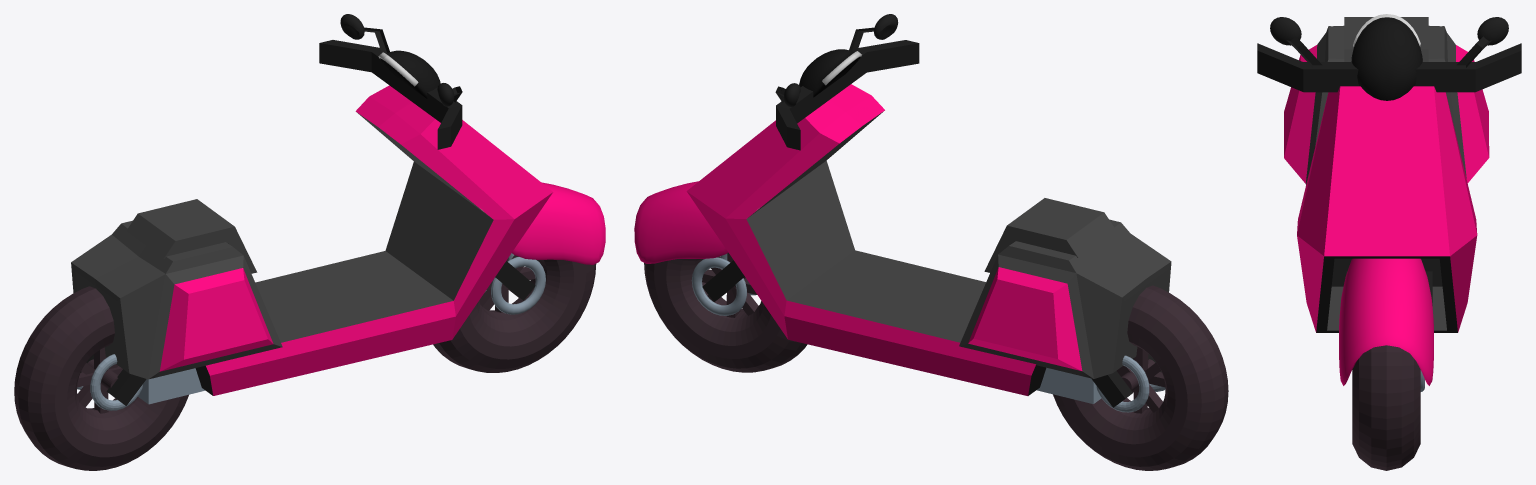
Rendered from TUBO5.fbx.
The picture shows the model from 3 angles, left to right: view 1: azimuth 30°, elevation 25°; view 2: azimuth 150°, elevation 25°; view 3: azimuth 270°, elevation 25°; orthographic projection. The views are drawn at different scales.
Visible parts, largest first — view 1: b1, b2, Torus.001, Torus, h1, Cube.019, t1, Sphere, Cube.004, Torus.002, Torus.003, Cube.001 (+2 smaller); view 2: b1, b2, Torus.001, Torus, h1, Cube.019, t1, Sphere, Torus.002, Cube.004, Torus.003, h2 (+2 smaller); view 3: b1, h1, Torus, b2, t1, Sphere, Cube.001, Cube.019, Cube.
Part boxes in pixels (bbox=[...]): b1: bbox=[195, 85, 552, 395]; b2: bbox=[71, 220, 282, 379]; Torus.001: bbox=[14, 286, 188, 470]; Torus: bbox=[433, 259, 596, 372]; h1: bbox=[512, 182, 605, 264]; Cube.019: bbox=[126, 199, 257, 273]; t1: bbox=[319, 40, 462, 149]; Sphere: bbox=[378, 50, 440, 98]; Cube.004: bbox=[138, 368, 204, 404]; Torus.002: bbox=[484, 253, 545, 314]; Torus.003: bbox=[77, 354, 142, 410]; Cube.001: bbox=[340, 14, 454, 106]; b1: bbox=[686, 84, 1046, 395]; b2: bbox=[959, 219, 1171, 378]; Torus.001: bbox=[1053, 285, 1228, 470]; Torus: bbox=[644, 259, 807, 372]; h1: bbox=[634, 181, 728, 263]; Cube.019: bbox=[984, 198, 1115, 272]; t1: bbox=[776, 40, 919, 150]; Sphere: bbox=[799, 49, 861, 97]; Torus.002: bbox=[691, 253, 756, 315]; Cube.004: bbox=[1036, 367, 1101, 403]; Torus.003: bbox=[1096, 355, 1165, 412]; h2: bbox=[702, 260, 744, 301]; b1: bbox=[1297, 86, 1477, 332]; h1: bbox=[1339, 258, 1433, 385]; Torus: bbox=[1352, 345, 1420, 470]; b2: bbox=[1284, 25, 1489, 184]; t1: bbox=[1257, 43, 1521, 92]; Sphere: bbox=[1351, 14, 1422, 100]; Cube.001: bbox=[1270, 17, 1508, 45]; Cube.019: bbox=[1344, 17, 1428, 61]; Cube: bbox=[1286, 36, 1492, 67].
Bounding box in the file's own units: 7.41 × 4.22 × 2.63.
Materials: 6 (1 with a texture image).
